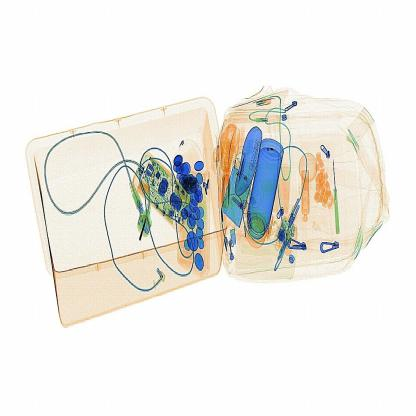wrench: (327, 160, 345, 238)
